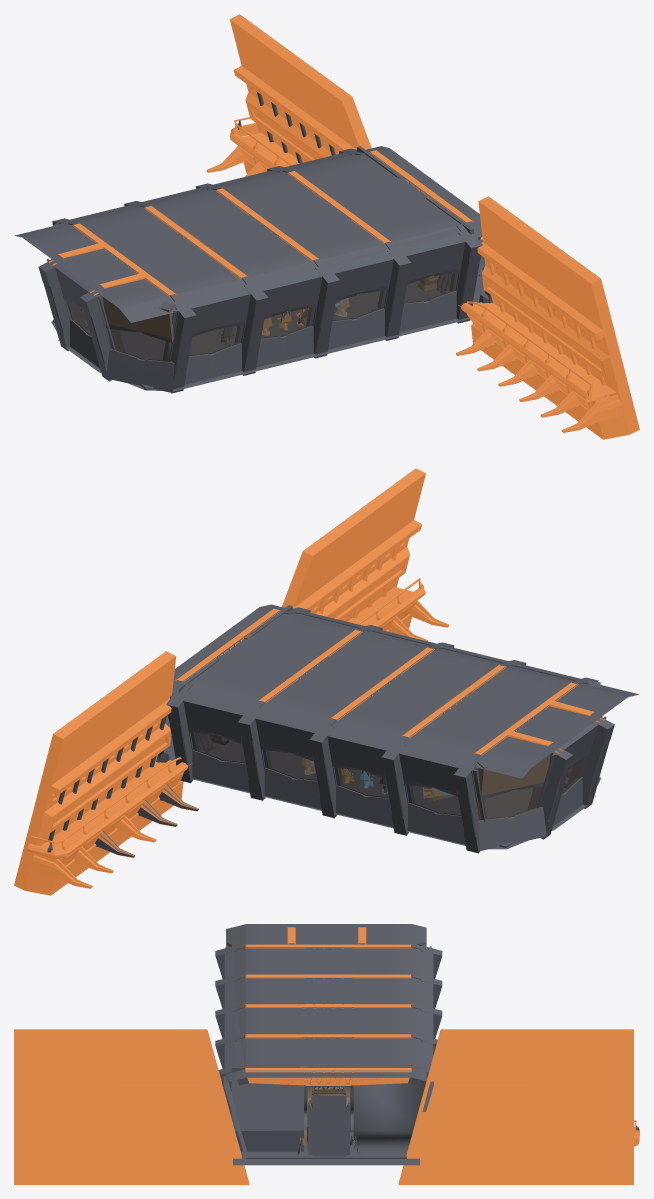
3 views of the same model, one above another, from view 1: azimuth 30°, elevation 25°; view 2: azimuth 150°, elevation 25°; view 3: azimuth 270°, elevation 25° (orthographic). The views are drawn at different scales.
Parts seen in each view (by area): view 1: Object_18, Object_23, Object_24, Object_16, Object_31, Object_25, Object_15, Object_20, Object_2, Object_13, Object_3, Object_6 (+4 smaller); view 2: Object_18, Object_23, Object_24, Object_13, Object_25, Object_31, Object_21, Object_17, Object_15, Object_4, Object_5, Object_19 (+4 smaller); view 3: Object_23, Object_18, Object_13, Object_25, Object_15, Object_7, Object_16, Object_27, Object_20, Object_6, Object_14, Object_17 (+2 smaller).
Part boxes in pixels (box(x1,y1,x2,y2)): Object_18: box(14, 146, 482, 381); Object_23: box(72, 14, 639, 439); Object_24: box(49, 66, 629, 439); Object_16: box(184, 224, 482, 384); Object_31: box(67, 273, 454, 361); Object_25: box(51, 91, 469, 391); Object_15: box(53, 146, 411, 392); Object_20: box(163, 259, 339, 393); Object_2: box(261, 259, 393, 339); Object_13: box(55, 153, 492, 368); Object_3: box(55, 267, 250, 356); Object_6: box(51, 196, 438, 363); Object_18: box(172, 604, 639, 818); Object_23: box(14, 468, 603, 895); Object_24: box(24, 520, 562, 895); Object_13: box(184, 605, 597, 844); Object_25: box(47, 655, 600, 857); Object_31: box(194, 732, 585, 820); Object_21: box(453, 746, 572, 853); Object_17: box(238, 700, 420, 835); Object_15: box(156, 625, 600, 850); Object_4: box(327, 736, 461, 816); Object_5: box(183, 701, 316, 781); Object_19: box(166, 660, 526, 782); Object_23: box(14, 927, 635, 1184); Object_18: box(226, 924, 442, 1082); Object_13: box(231, 951, 433, 1151); Object_25: box(233, 1066, 638, 1165); Object_15: box(215, 940, 425, 1151); Object_7: box(237, 944, 419, 1086); Object_16: box(218, 951, 351, 1117); Object_27: box(223, 1076, 433, 1158); Object_20: box(215, 944, 246, 1038); Object_6: box(227, 943, 425, 1155); Object_14: box(307, 1086, 349, 1107); Object_17: box(411, 974, 442, 1054).
Size of the model in its own units: 1444 by 563 by 2261.
